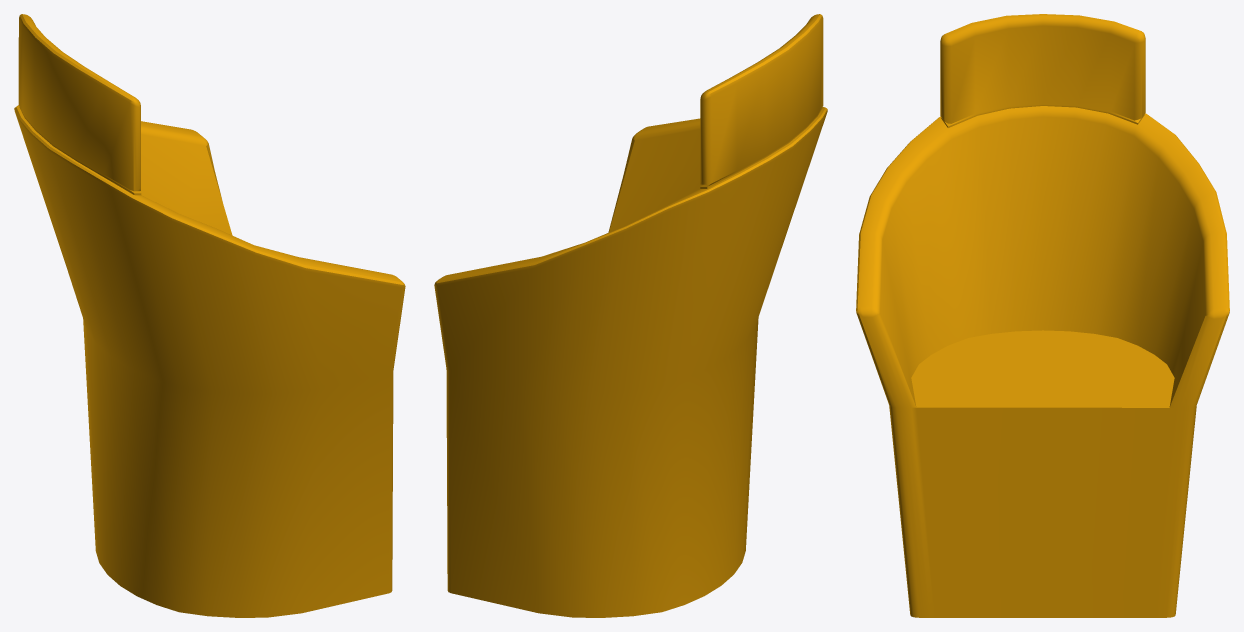
File: Silla del play.fbx
3 renders of one model, left to right at view 1: azimuth 30°, elevation 25°; view 2: azimuth 150°, elevation 25°; view 3: azimuth 270°, elevation 25°, orthographic. The views are drawn at different scales.
Parts seen in each view (by area): view 1: Silla play; view 2: Silla play; view 3: Silla play.
Part boxes in pixels (left/top/right/bottom): Silla play: left=14, top=14, right=405, bottom=617; Silla play: left=434, top=14, right=827, bottom=617; Silla play: left=856, top=14, right=1229, bottom=617.
Bounding box in the file's own units: 264 × 510 × 353.
